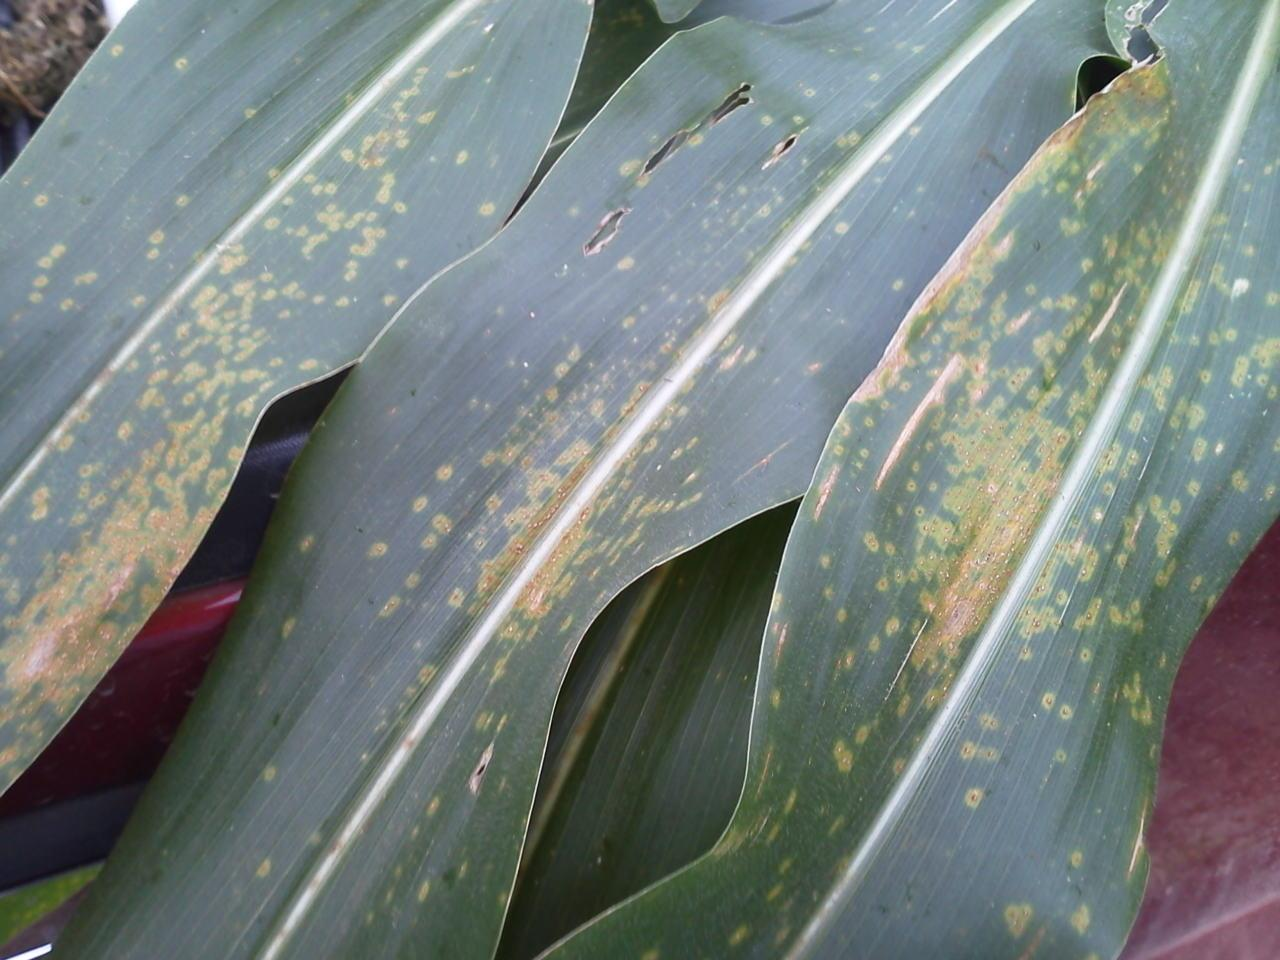Corn rust leaf: (149, 32, 1009, 960), (688, 19, 1280, 941), (1, 12, 588, 791)
